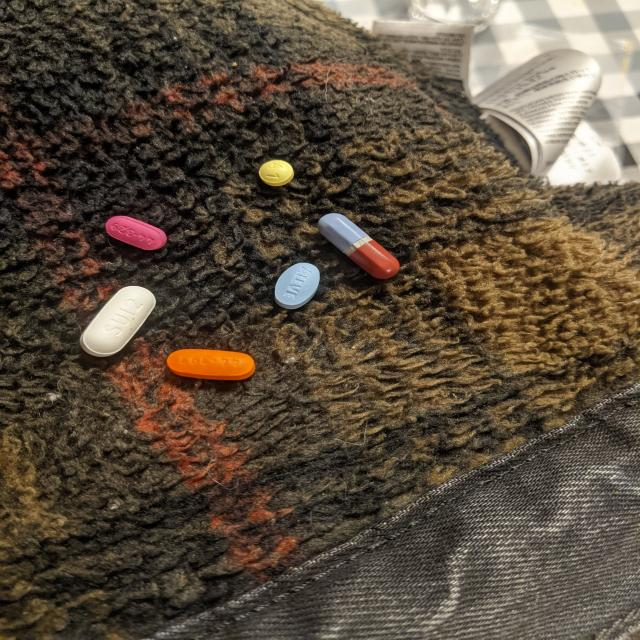non-organic waste: (79, 284, 158, 359), (316, 212, 401, 280), (166, 348, 256, 382), (105, 214, 168, 252), (274, 261, 322, 310), (258, 160, 295, 188)
